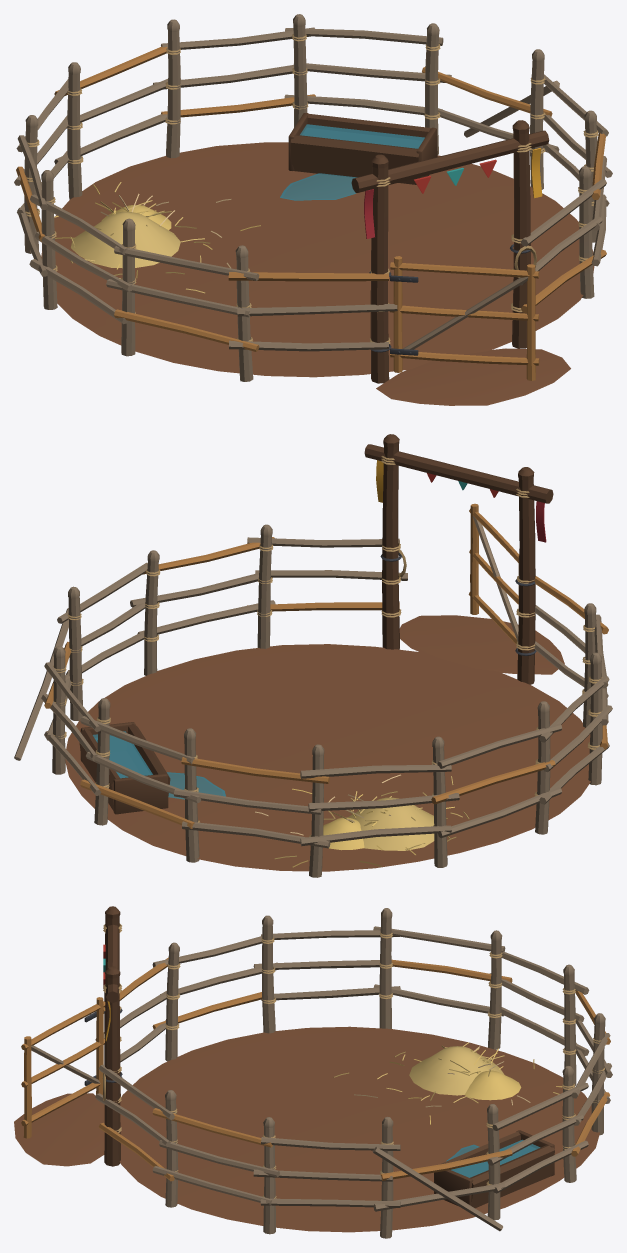
The model's file is deco_pen_round.fbx.
3 renders of one model, top to bottom at view 1: azimuth 30°, elevation 25°; view 2: azimuth 150°, elevation 25°; view 3: azimuth 270°, elevation 25°, orthographic. The views are drawn at different scales.
Parts seen in each view (by area): view 1: Pen_Round_Dirt, Pen_Round_Rails, Pen_Round_Posts, Pen_Round_Trough, Pen_Round_Gate, Pen_Round_Hay; view 2: Pen_Round_Dirt, Pen_Round_Rails, Pen_Round_Posts, Pen_Round_Trough, Pen_Round_Hay, Pen_Round_Gate; view 3: Pen_Round_Dirt, Pen_Round_Rails, Pen_Round_Posts, Pen_Round_Hay, Pen_Round_Trough, Pen_Round_Gate.
Boxes of the visible parts, <box> form: Pen_Round_Dirt: <box>41,142,594,405</box>; Pen_Round_Rails: <box>14,27,612,351</box>; Pen_Round_Posts: <box>24,14,598,383</box>; Pen_Round_Trough: <box>288,113,437,184</box>; Pen_Round_Gate: <box>390,256,539,380</box>; Pen_Round_Hay: <box>71,193,180,268</box>; Pen_Round_Dirt: <box>65,615,590,871</box>; Pen_Round_Rails: <box>14,537,612,848</box>; Pen_Round_Posts: <box>52,434,602,877</box>; Pen_Round_Trough: <box>79,722,170,814</box>; Pen_Round_Hay: <box>323,791,434,850</box>; Pen_Round_Gate: <box>468,503,519,644</box>; Pen_Round_Dirt: <box>14,1026,599,1232</box>; Pen_Round_Rails: <box>95,926,612,1231</box>; Pen_Round_Posts: <box>103,906,605,1238</box>; Pen_Round_Hay: <box>409,1042,521,1100</box>; Pen_Round_Trough: <box>434,1130,554,1208</box>; Pen_Round_Gate: <box>21,997,105,1138</box>.
Bounding box in the file's own units: 633 × 262 × 725.
